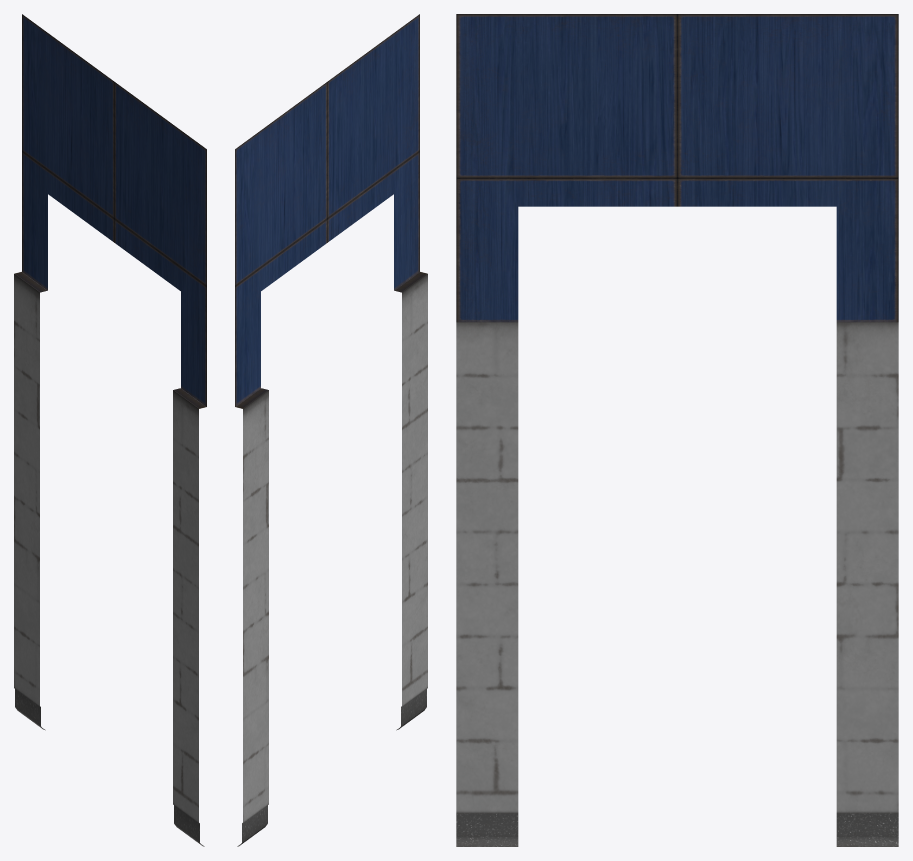
The model's file is Cafateria 2m Door A.fbx.
3 views of the same model, side by side, from view 1: azimuth 30°, elevation 25°; view 2: azimuth 150°, elevation 25°; view 3: azimuth 270°, elevation 25° (orthographic). The views are drawn at different scales.
Visible parts, largest first — view 1: Cafateria_2M_Door_A; view 2: Cafateria_2M_Door_A; view 3: Cafateria_2M_Door_A.
Part boxes in pixels (box(x1,y1,x2,y2)): Cafateria_2M_Door_A: box(14, 14, 206, 846); Cafateria_2M_Door_A: box(235, 14, 427, 846); Cafateria_2M_Door_A: box(456, 14, 898, 846).
Size of the model in its own units: 5 by 416 by 200.
